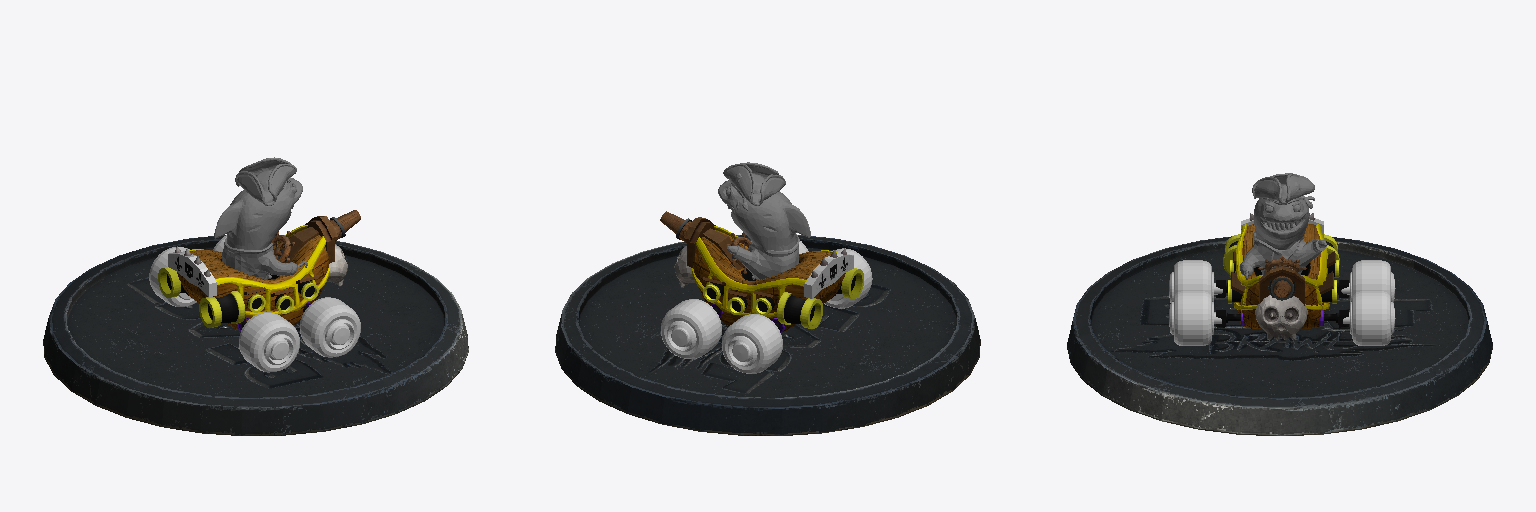
3 views of the same model, side by side, from view 1: azimuth 30°, elevation 25°; view 2: azimuth 150°, elevation 25°; view 3: azimuth 270°, elevation 25° (orthographic).
Visible parts, largest first — view 1: platform_low_platform_low.001, wheel_low, body_low, ship_low, smotor_low, hat_low, armor_low, cloth_low_Mesh, backwood_low, grontwood_low; view 2: platform_low_platform_low.001, wheel_low, body_low, ship_low, smotor_low, hat_low, armor_low, cloth_low_Mesh, backwood_low, grontwood_low; view 3: platform_low_platform_low.001, wheel_low, body_low, ship_low, skull_low, cloth_low_Mesh, hat_low, armor_low, grontwood_low, canyon3_low, supportwheel2_low, smotor_low (+1 smaller).
Boxes of the visible parts, x1=… form: platform_low_platform_low.001: x1=43, y1=235, x2=468, y2=435; wheel_low: x1=149, y1=235, x2=360, y2=372; body_low: x1=214, y1=178, x2=302, y2=249; ship_low: x1=177, y1=230, x2=328, y2=330; smotor_low: x1=158, y1=267, x2=245, y2=327; hat_low: x1=235, y1=157, x2=296, y2=205; armor_low: x1=183, y1=225, x2=329, y2=316; cloth_low_Mesh: x1=222, y1=238, x2=292, y2=278; backwood_low: x1=168, y1=252, x2=216, y2=296; grontwood_low: x1=305, y1=216, x2=337, y2=263; platform_low_platform_low.001: x1=555, y1=235, x2=980, y2=435; wheel_low: x1=661, y1=241, x2=872, y2=373; body_low: x1=718, y1=180, x2=810, y2=250; ship_low: x1=693, y1=230, x2=845, y2=331; smotor_low: x1=777, y1=268, x2=863, y2=328; hat_low: x1=723, y1=162, x2=785, y2=205; armor_low: x1=692, y1=226, x2=837, y2=317; cloth_low_Mesh: x1=733, y1=234, x2=799, y2=279; backwood_low: x1=804, y1=253, x2=853, y2=298; grontwood_low: x1=684, y1=217, x2=715, y2=267; platform_low_platform_low.001: x1=1067, y1=236, x2=1492, y2=435; wheel_low: x1=1169, y1=260, x2=1395, y2=345; body_low: x1=1254, y1=198, x2=1309, y2=249; ship_low: x1=1238, y1=224, x2=1324, y2=328; skull_low: x1=1255, y1=295, x2=1307, y2=340; cloth_low_Mesh: x1=1240, y1=232, x2=1326, y2=274; hat_low: x1=1252, y1=173, x2=1314, y2=203; armor_low: x1=1234, y1=224, x2=1329, y2=310; grontwood_low: x1=1259, y1=266, x2=1304, y2=305; canyon3_low: x1=1228, y1=277, x2=1336, y2=303; supportwheel2_low: x1=1216, y1=280, x2=1348, y2=327; smotor_low: x1=1223, y1=234, x2=1339, y2=274.
Bounding box in the file's own units: 13.87 × 6.47 × 13.87.
Materials: 4 (2 with a texture image).